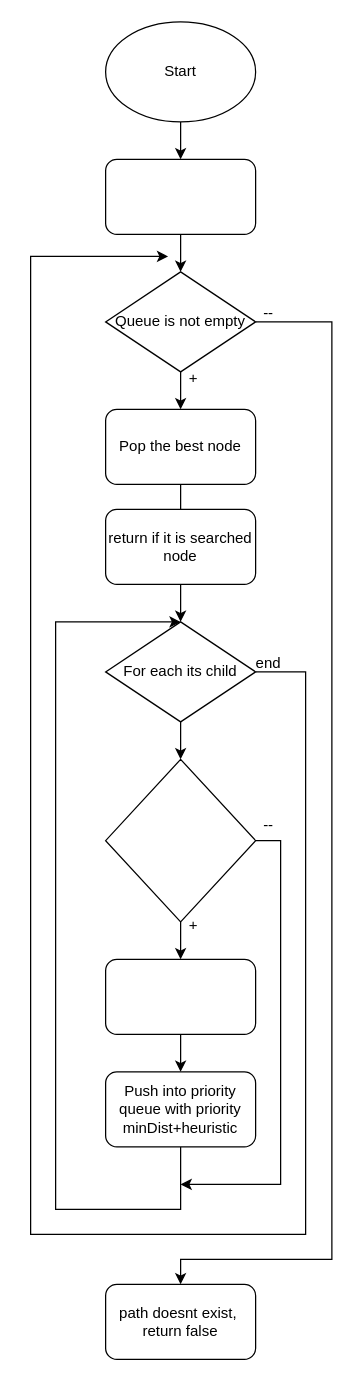
Some shapes in this 364 by 1381 pixel diagram are drawn without their labels. Here are the shapes that lost their labels. From the top down, the box of each, then its label:
(104, 158, 256, 234): Put start node to the priority queue
(104, 758, 256, 922): Distance through current vertice is lower than minDist
(104, 958, 256, 1034): Rewrite minDist and previous vertice in shortest path
